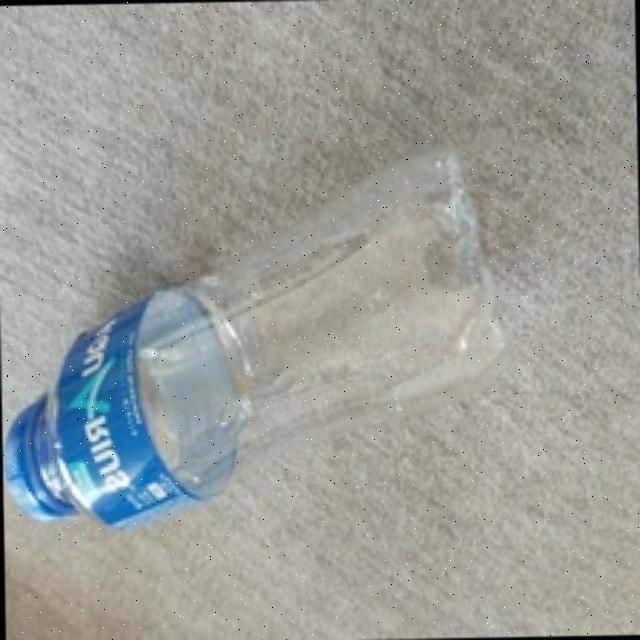bottle: (0, 143, 512, 544)
cap: (1, 398, 66, 528)
label: (38, 272, 240, 544)
